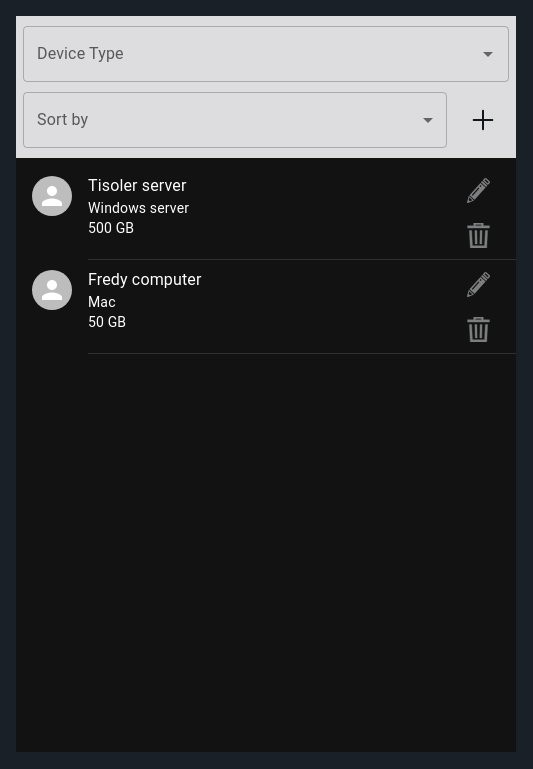
Scenario: DeviceList filter - No elements for "Windows Workstation" type
The width and height of the screenshot is (533, 769).
Expected: the text "Tisoler server" is shown, [88,176,186,195]
Expected: the text "Windows server" is shown, [88,200,189,216]
// Click filter input
Type "Windows Workstation" into the dropdown with placeholder "Device Type".
click(251, 54); type("Windows Workstation")  # box [32,35,470,73]
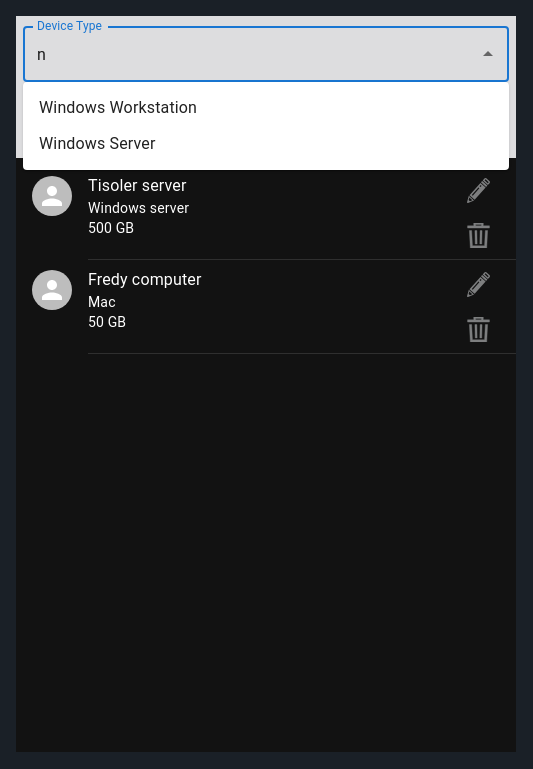
Now the option "Windows Workstation" is shown
// Click 'Windows Workstation' option
Click the option "Windows Workstation".
click(118, 108)  # box [39,98,197,117]
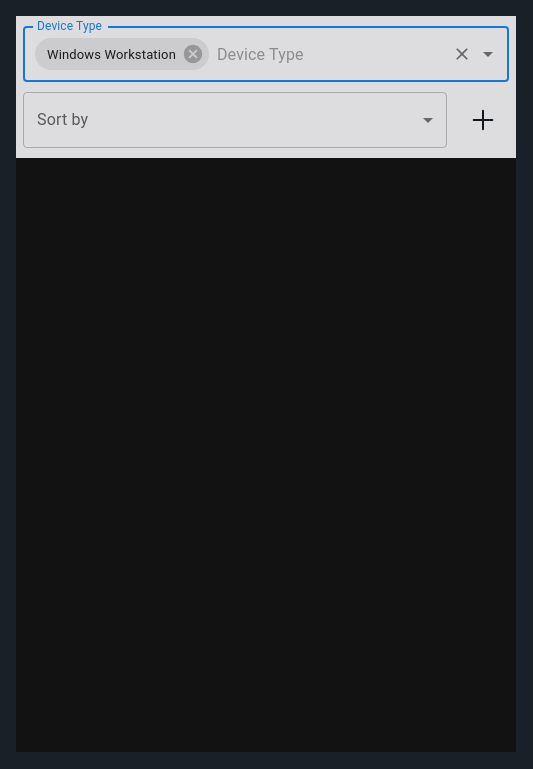
Now the text "Tisoler server" is gone
Now the text "Fredy computer" is gone
